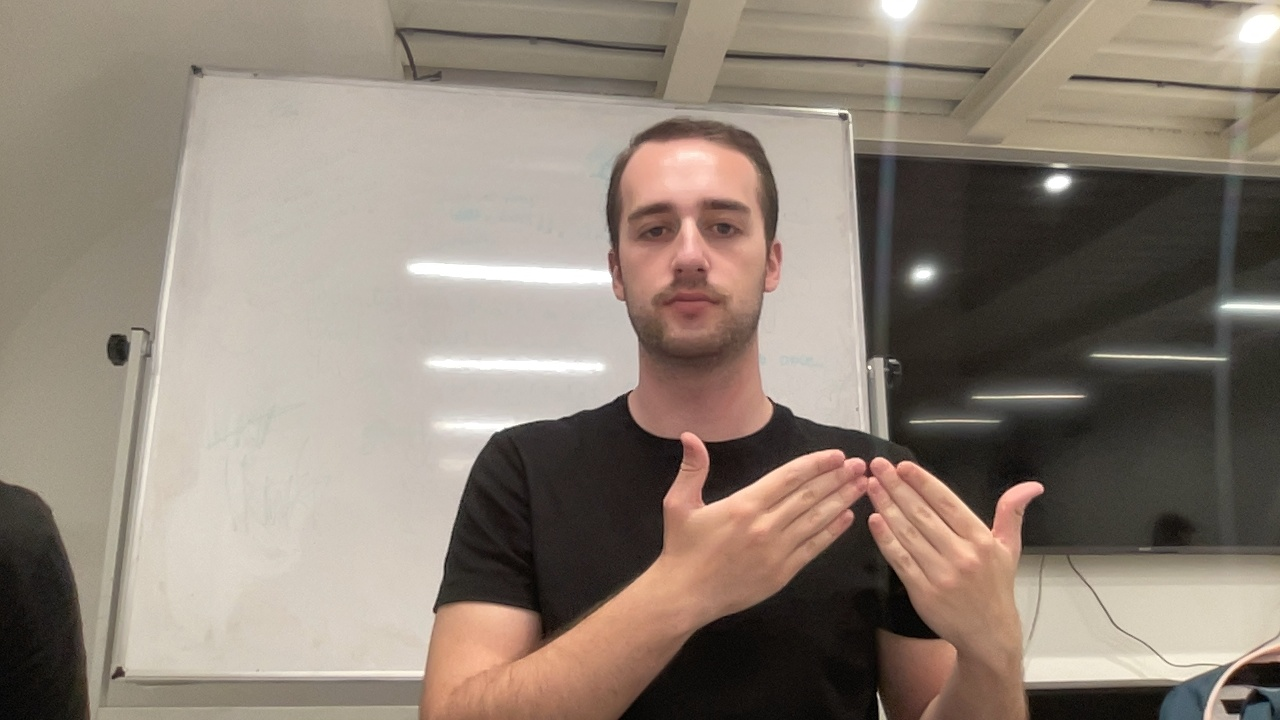Thank You: (657, 426, 1048, 658)
